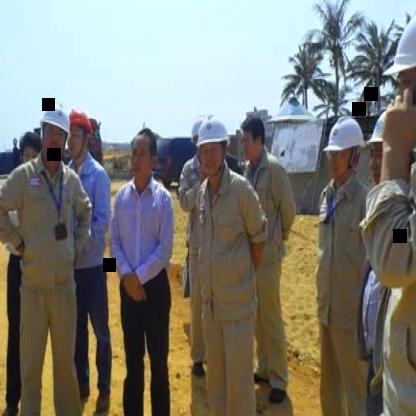head: (130, 124, 158, 186), (240, 110, 268, 164), (17, 130, 42, 173)
helmet: (380, 12, 416, 146), (366, 106, 408, 205), (323, 115, 363, 184), (194, 110, 230, 176), (37, 100, 70, 164), (65, 103, 90, 162)
